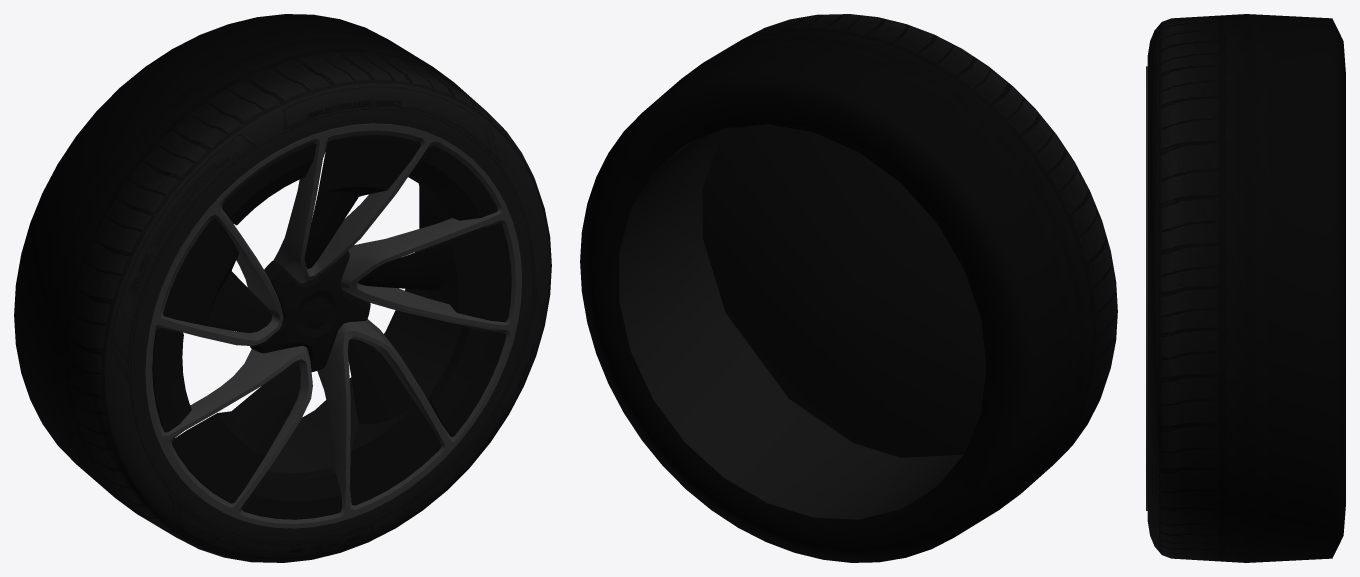
File: Wishbone_20.glb
The picture shows the model from 3 angles, left to right: view 1: azimuth 30°, elevation 25°; view 2: azimuth 150°, elevation 25°; view 3: azimuth 270°, elevation 25°; orthographic projection. The views are drawn at different scales.
Visible parts, largest first — view 1: Wheel_Wishbone_20; view 2: Wheel_Wishbone_20; view 3: Wheel_Wishbone_20.
Boxes of the visible parts, <box> form: Wheel_Wishbone_20: <box>14,14,551,562</box>; Wheel_Wishbone_20: <box>580,14,1117,562</box>; Wheel_Wishbone_20: <box>1146,14,1345,562</box>.
Size of the model in its own units: 0.6735 by 0.6722 by 0.245.
Materials: 2 (2 with a texture image).
